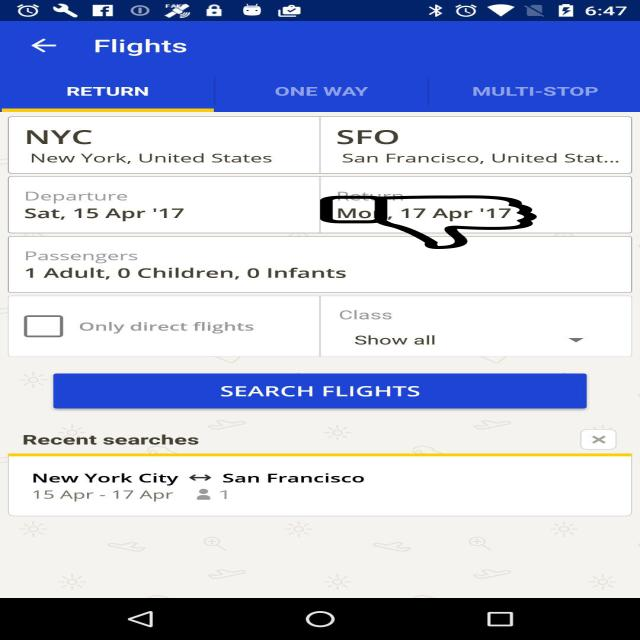obstruction: (317, 195, 540, 249)
